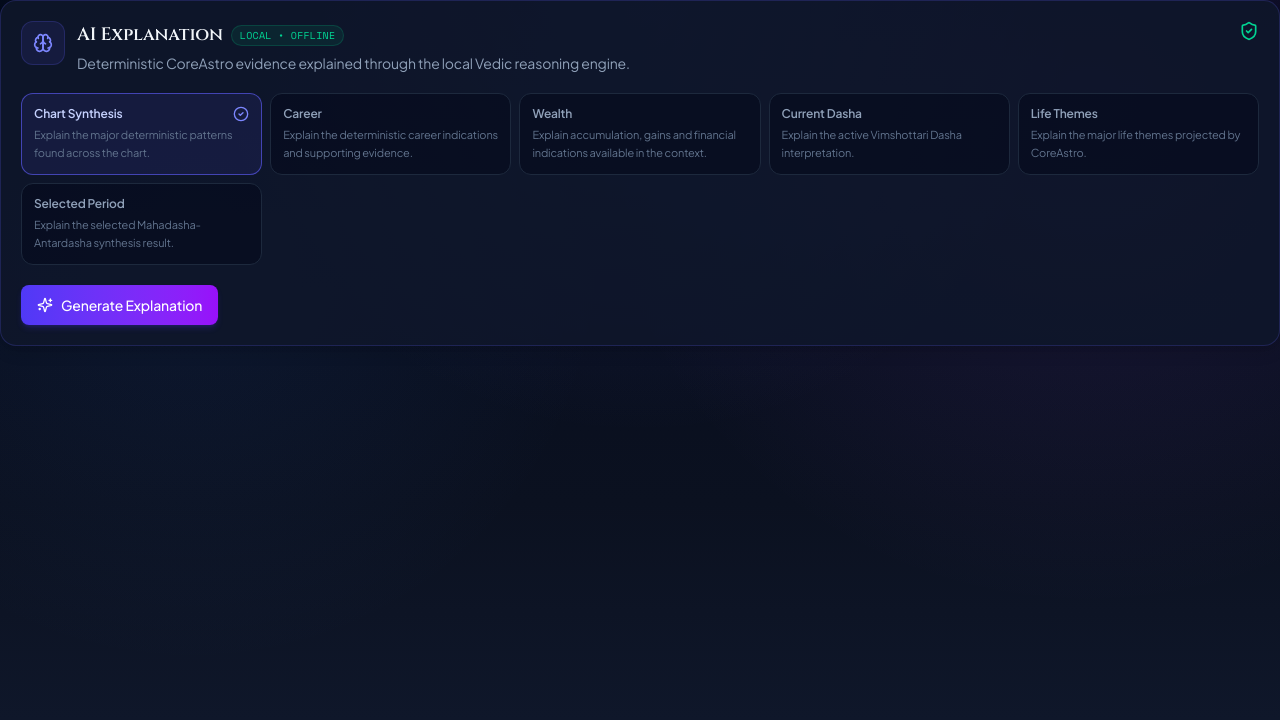
it: AiExplanationPanel › renders error state when explanation fails
Click the button "Generate Explanation".
click(120, 304)  # box [21,284,218,324]
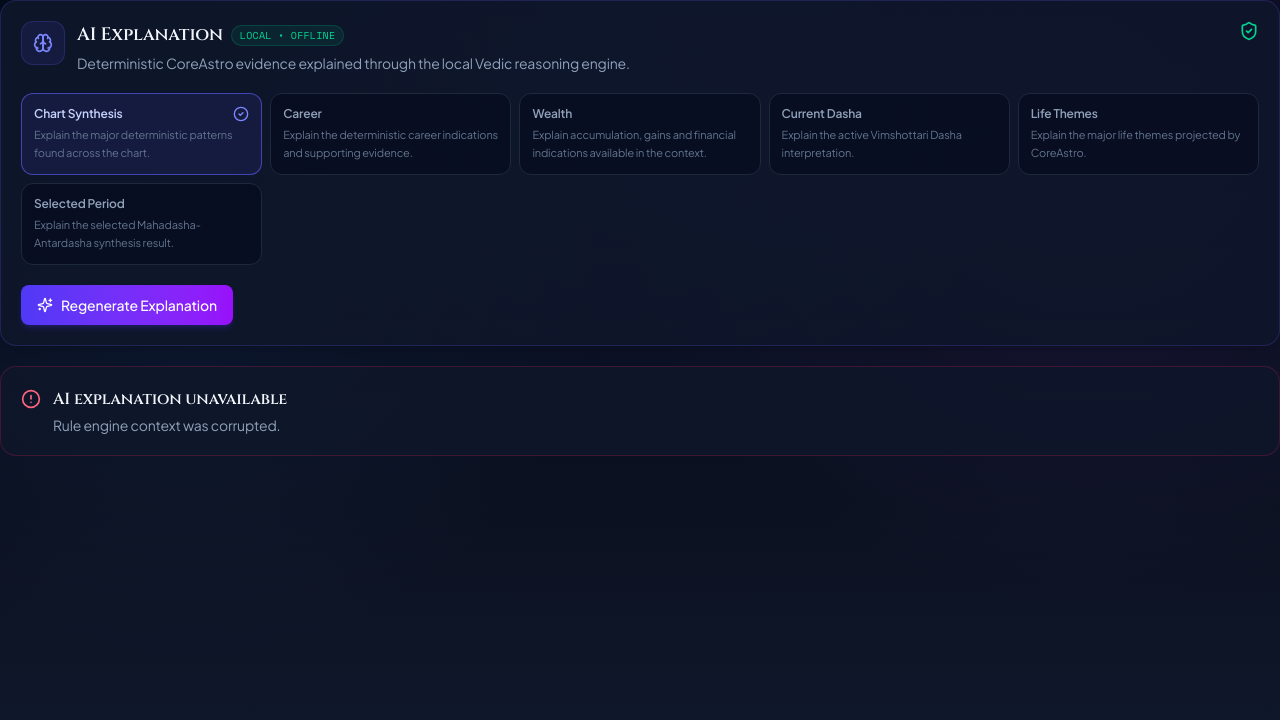
Expected: the heading "AI explanation unavailable" is shown, [53,386,287,410]
Expected: the text "Rule engine context was corrupted." is shown, [53,414,287,434]
